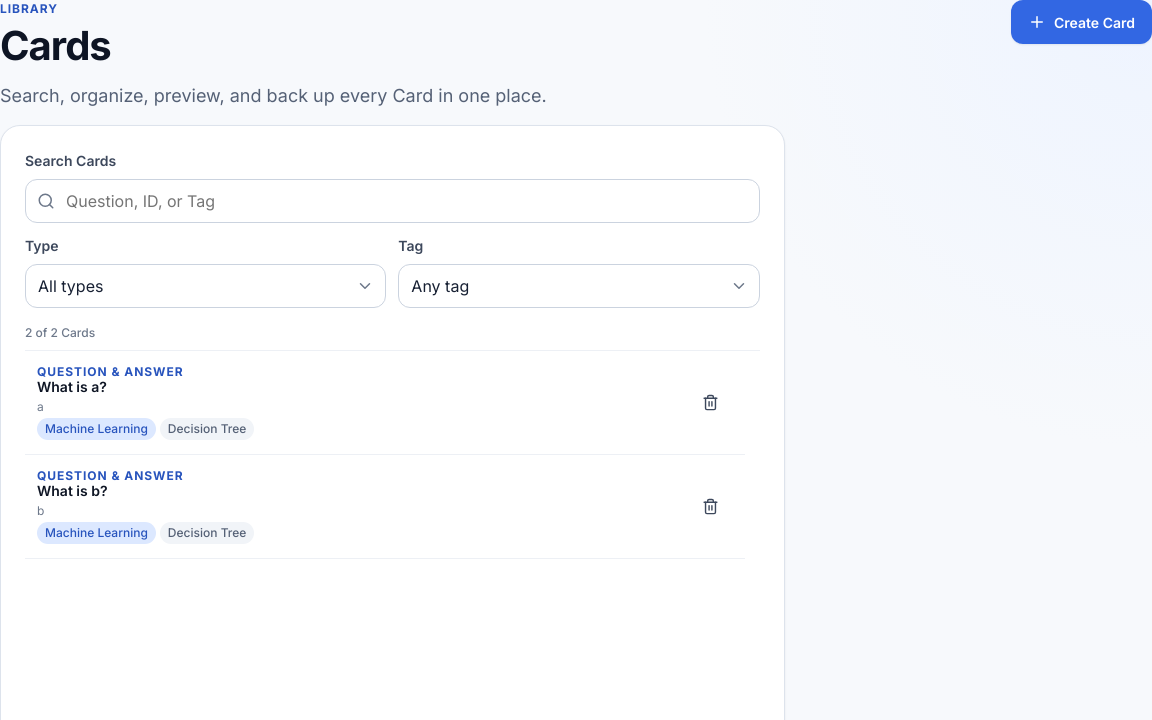
Test case: a row's Delete asks first in a modal naming the Card, and deletes nothing yet
Step 1. Click the button named "Delete b" → (711, 506), box [689, 484, 733, 528]
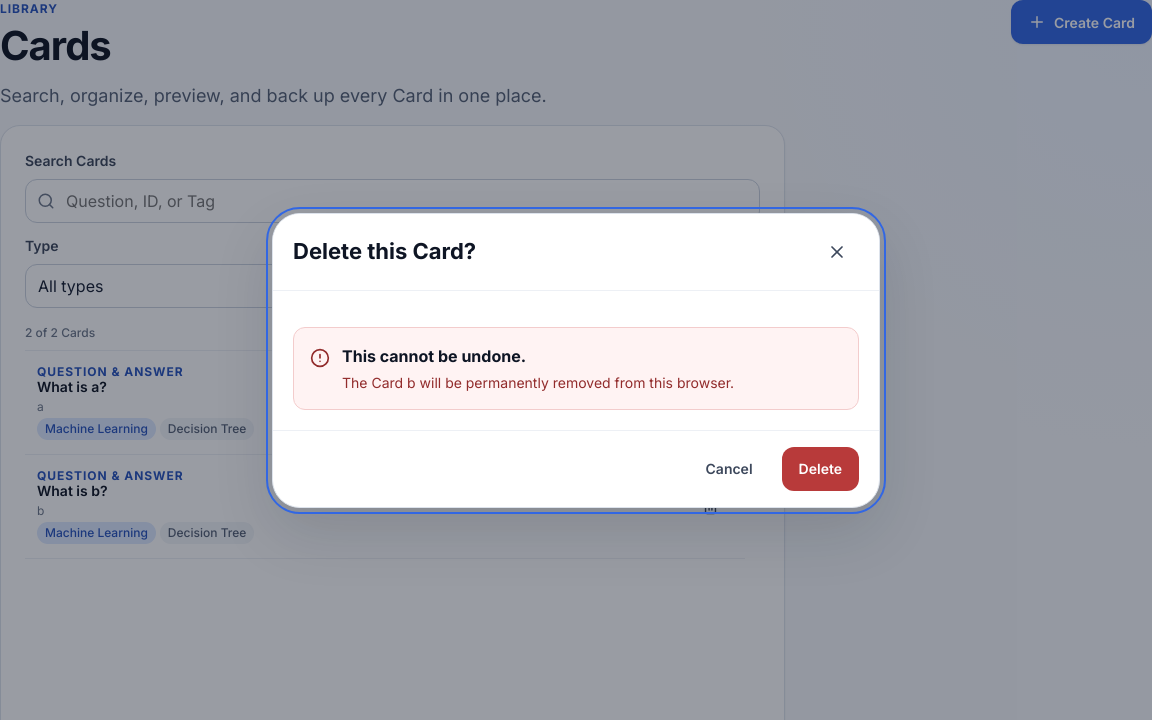
Result: the text "This cannot be undone." is shown at [342, 346, 526, 366]
Result: the text "The Card b will be permanently removed from this browser." is shown at [342, 372, 734, 392]
